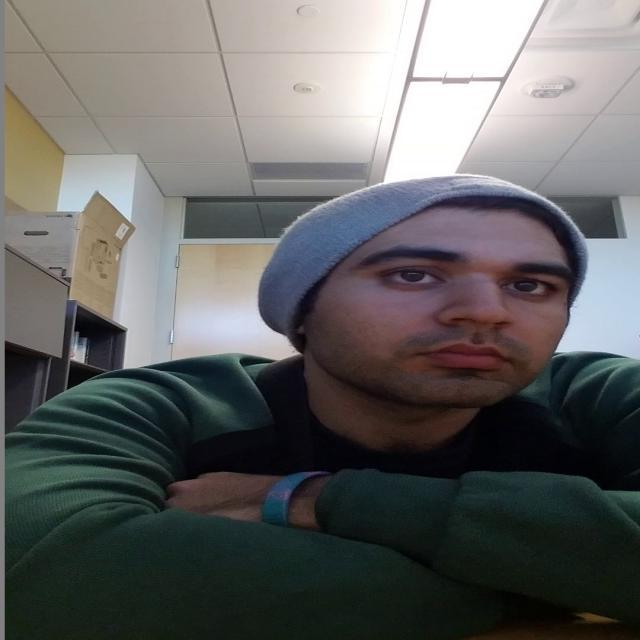open: (352, 244, 464, 294), (498, 260, 576, 308)
